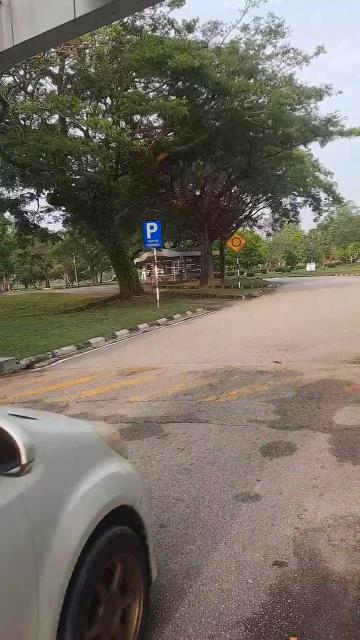car: (1, 393, 167, 640)
